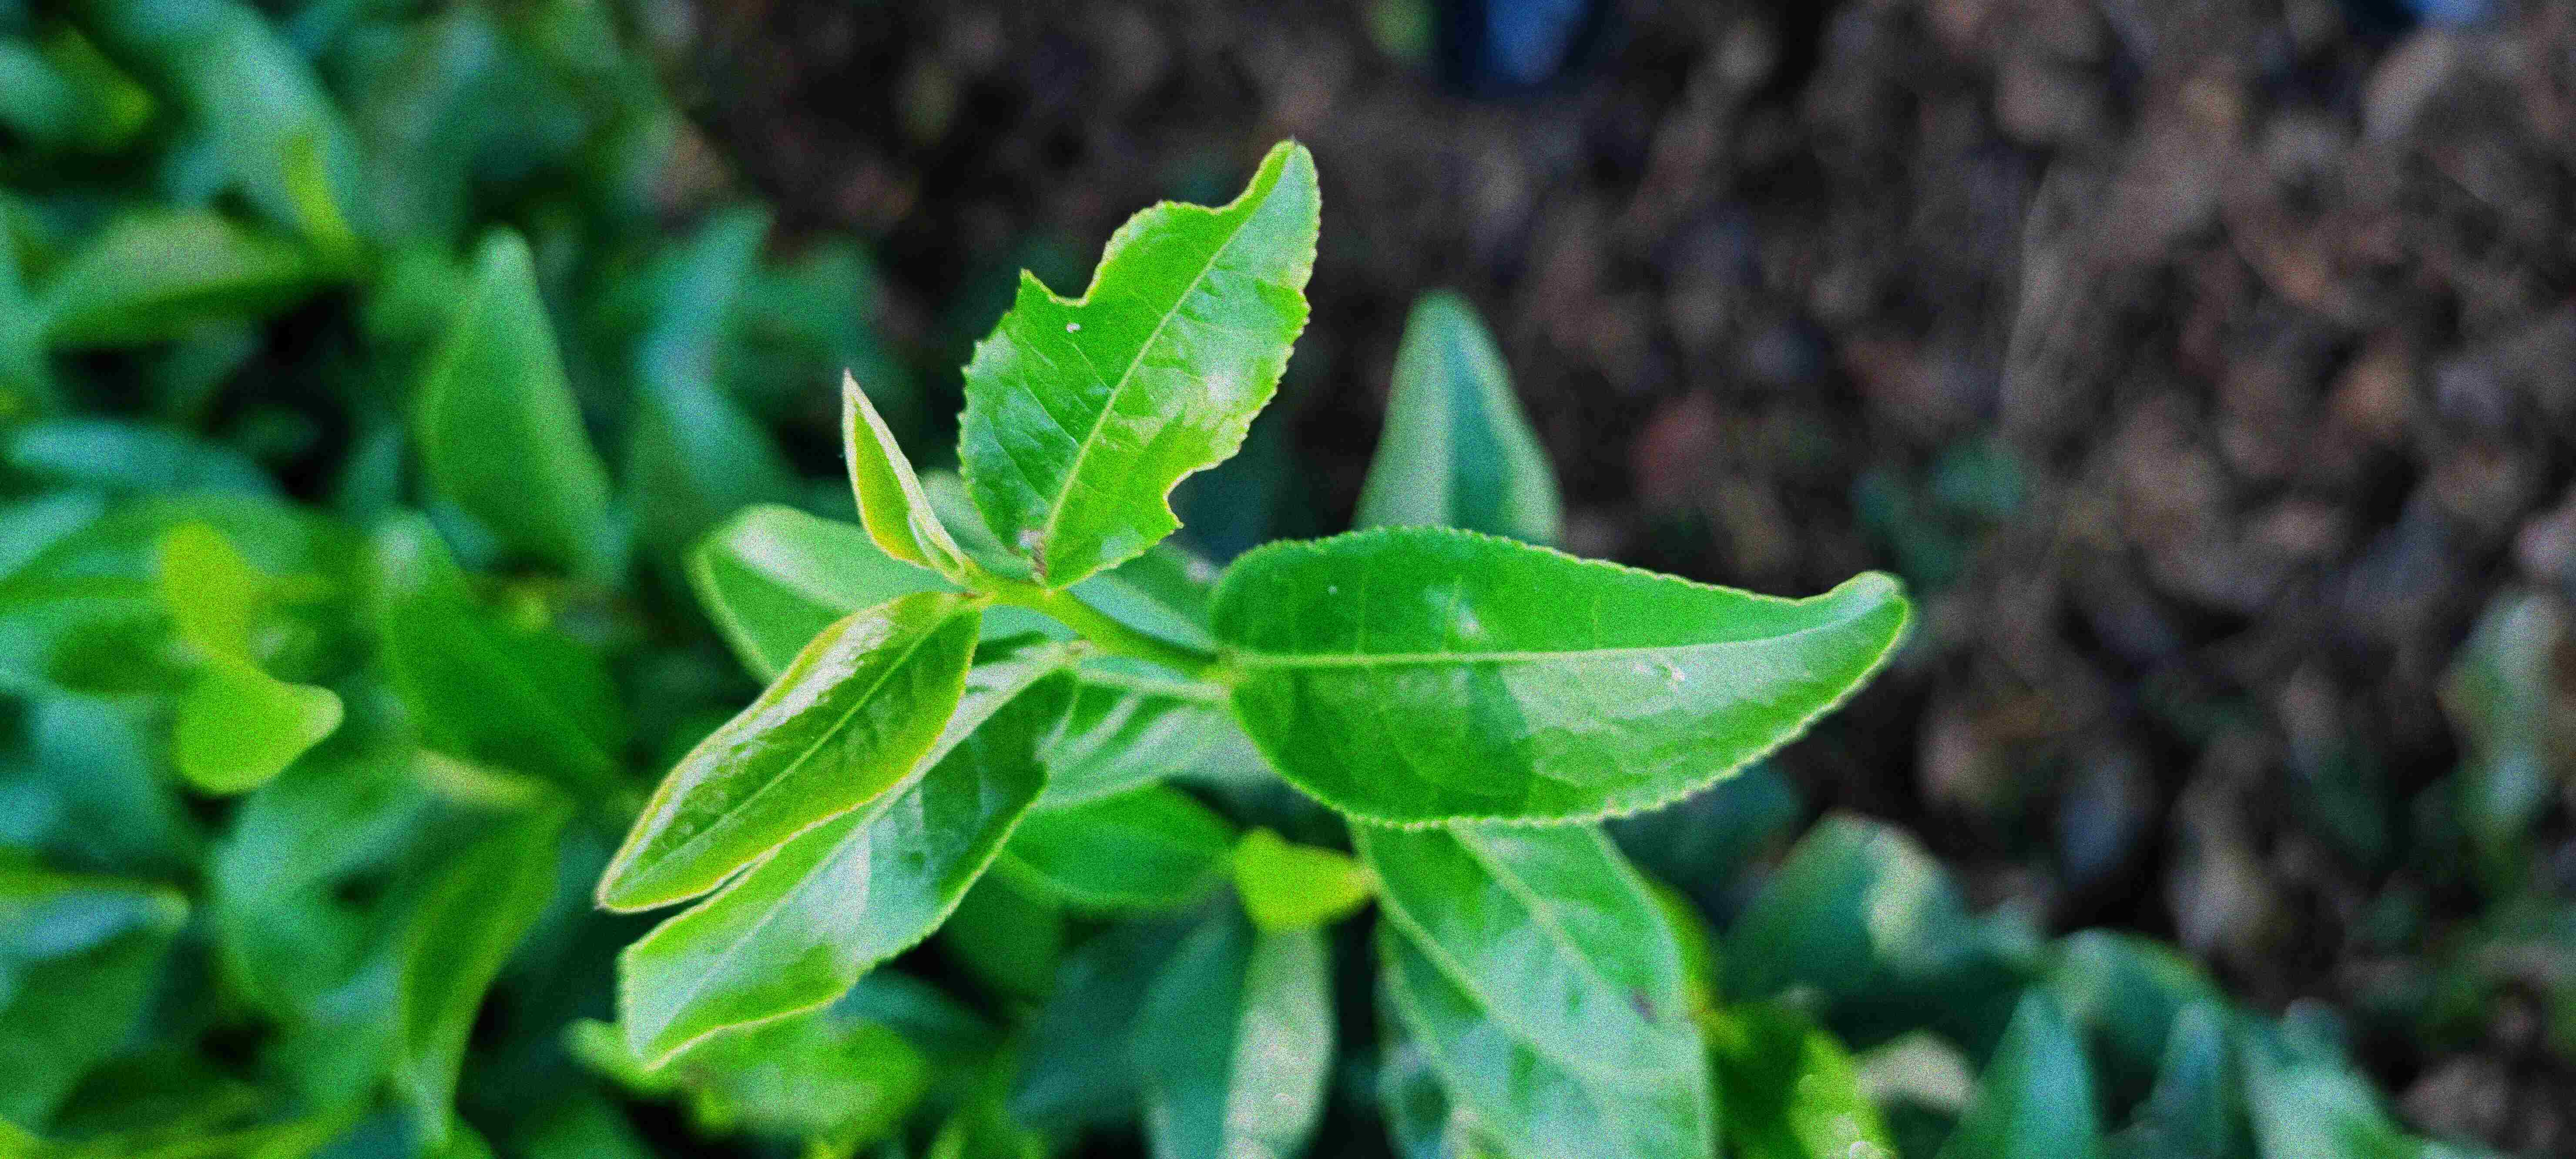chihuo_low: (958, 141, 1324, 591)
healthy: (1209, 520, 1919, 829), (591, 591, 981, 919)
tanju_low: (841, 361, 968, 584)
